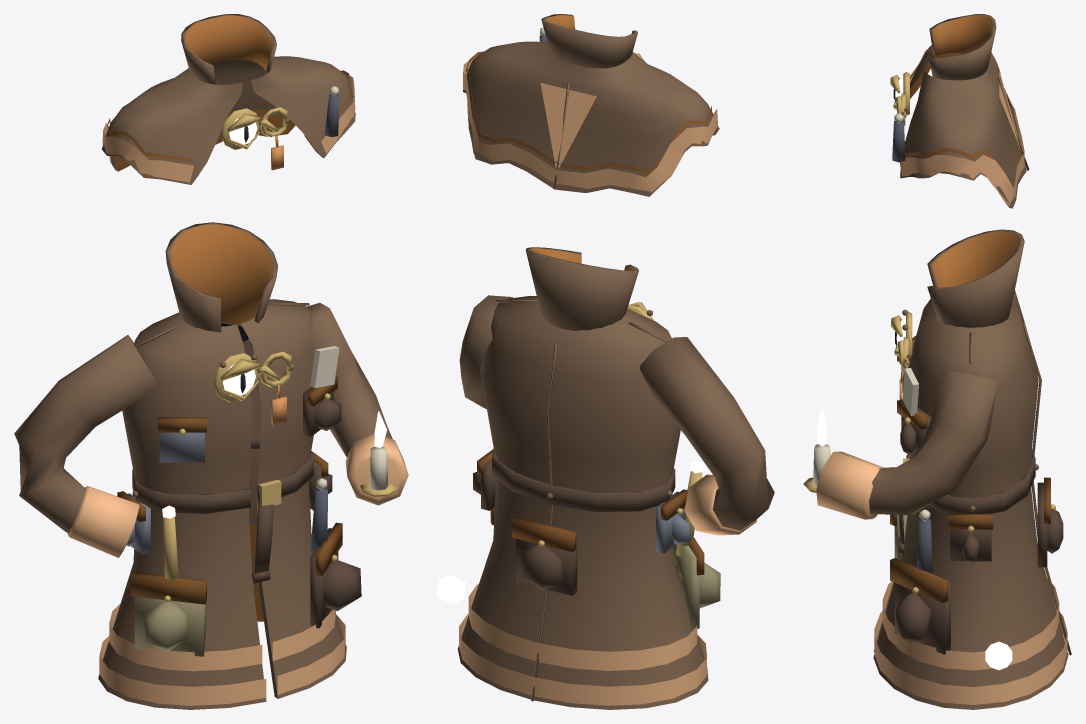
Rendered from coat-many-pockets.glb.
3 renders of one model, left to right at view 1: azimuth 30°, elevation 25°; view 2: azimuth 150°, elevation 25°; view 3: azimuth 270°, elevation 25°, orthographic. The views are drawn at different scales.
Parts seen in each view (by area): view 1: coat-many-pockets, coat-many-pockets_worn, sway_belt; view 2: coat-many-pockets, coat-many-pockets_worn; view 3: coat-many-pockets, coat-many-pockets_worn.
Part boxes in pixels (left/top/right/bottom): coat-many-pockets: left=14, top=222, right=408, bottom=709; coat-many-pockets_worn: left=102, top=14, right=355, bottom=184; sway_belt: left=252, top=504, right=274, bottom=583; coat-many-pockets: left=437, top=247, right=774, bottom=709; coat-many-pockets_worn: left=463, top=14, right=719, bottom=196; coat-many-pockets: left=803, top=229, right=1071, bottom=709; coat-many-pockets_worn: left=890, top=14, right=1029, bottom=208.
Bounding box in the file's own units: 1.17 × 2.18 × 0.8434.
